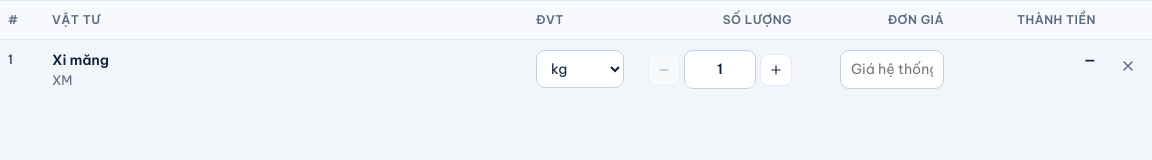
Test: posts a grouped manual price as whole đồng and flags unreadable quantities
Type "120.000" into the field named "Đơn giá thủ công dòng 1" at {"x": 892, "y": 70}, box [840, 50, 944, 89]
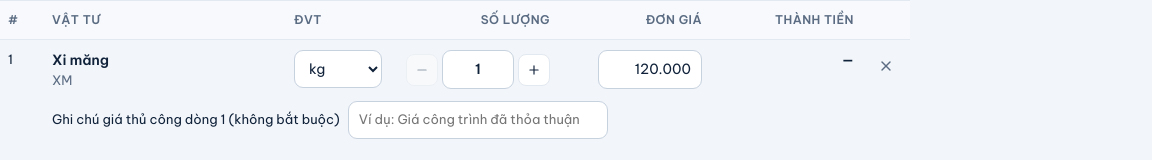
Replace the text in the field named "Số lượng dòng 1" with "1,2,3" at {"x": 478, "y": 70}, box [442, 50, 514, 89]
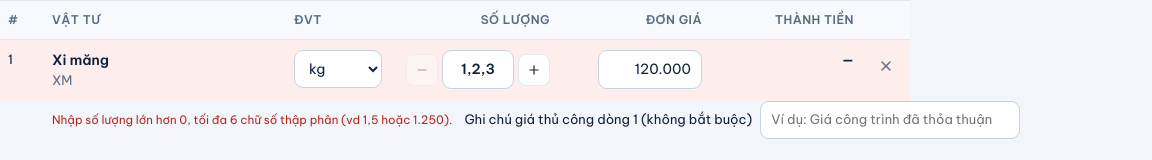
Now the message shows "Nhập số lượng lớn hơn 0", box [52, 112, 452, 127]
